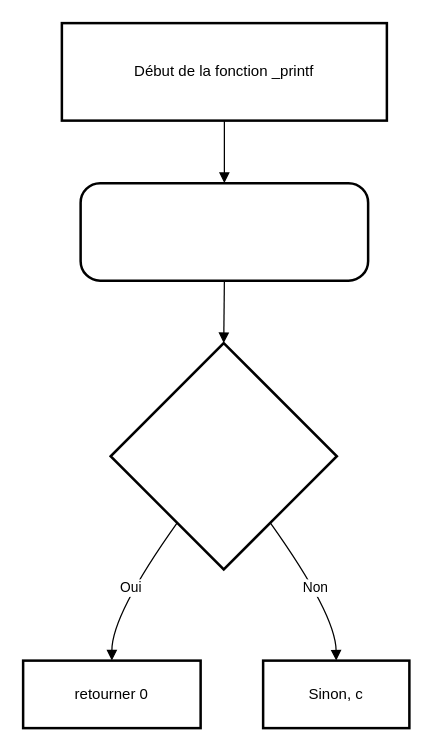
This 431x750 diagram has some shape labels left out. Each missing label, with the box of its shape:
format est NULL ?: (109, 341, 338, 570)
Vérifier la validité de l'argument format: (79, 181, 369, 281)
